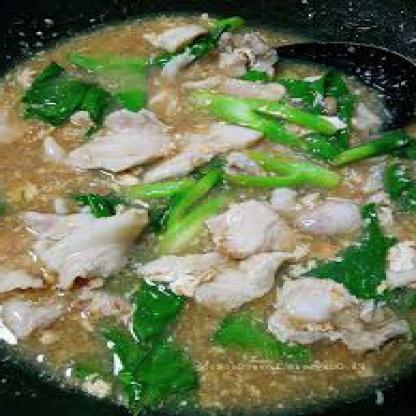Laadna: (4, 9, 415, 415)
